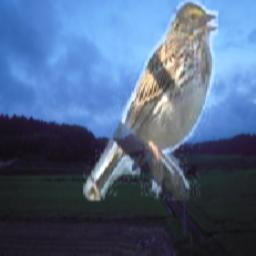Sparrow: (83, 0, 218, 200)
